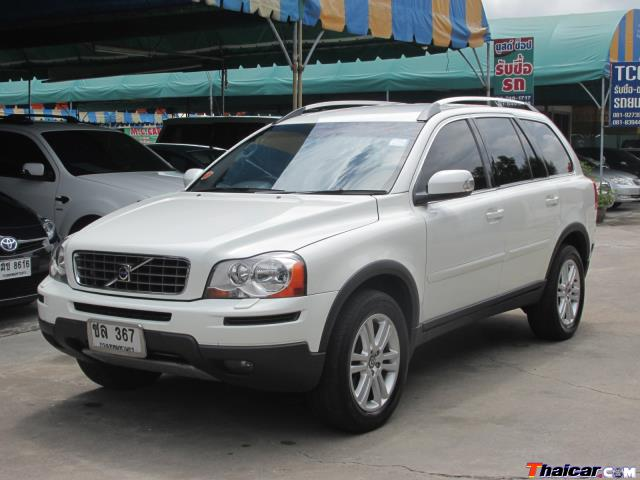pickup: (35, 97, 601, 435)
